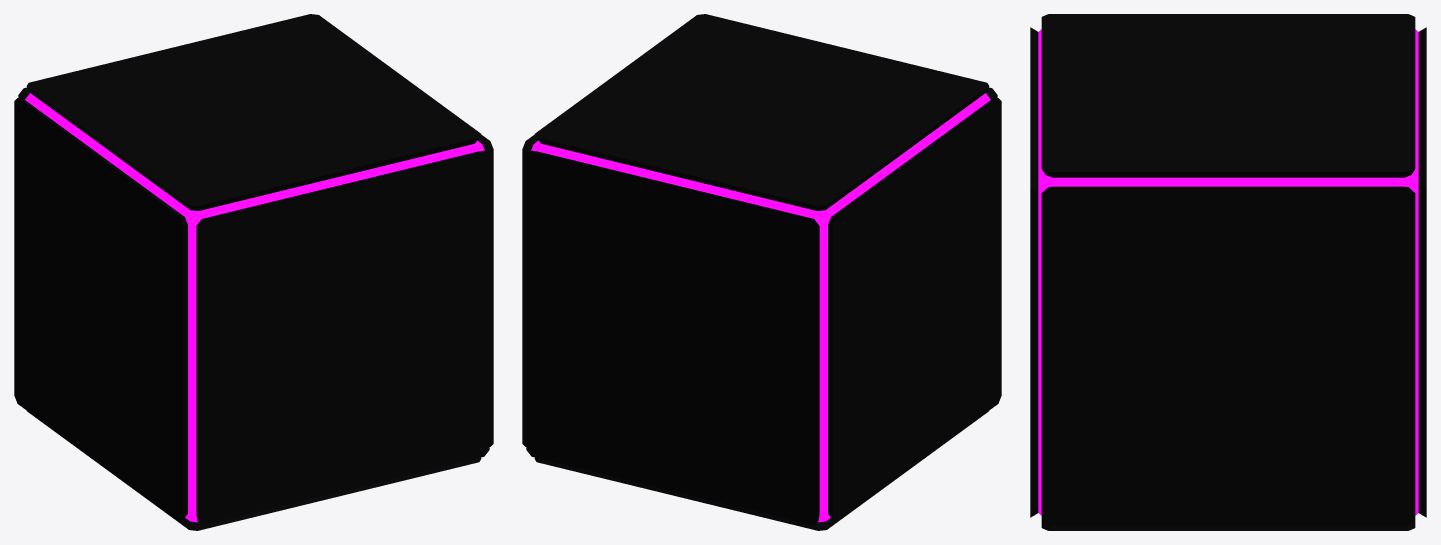
The model's file is Parking_Ship_2x2.fbx.
The picture shows the model from 3 angles, left to right: view 1: azimuth 30°, elevation 25°; view 2: azimuth 150°, elevation 25°; view 3: azimuth 270°, elevation 25°; orthographic projection. The views are drawn at different scales.
Parts seen in each view (by area): view 1: Ship_2x2; view 2: Ship_2x2; view 3: Ship_2x2.
Part boxes in pixels (x1,y1,x2,y2): Ship_2x2: (14,14,493,530); Ship_2x2: (522,14,1001,530); Ship_2x2: (1030,14,1426,530).
Bounding box in the file's own units: 180 × 180 × 180.
